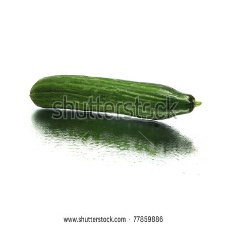cucumber: (29, 74, 195, 121)
